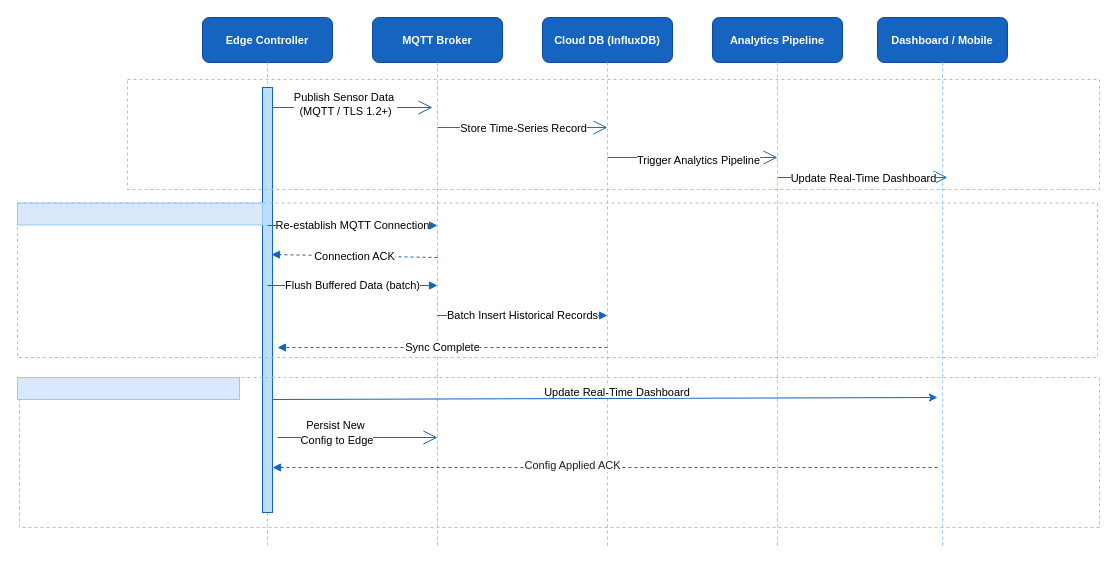
The diagram is 1117 pixels wide and 566 high, and some of its shapes have lost their labels. Each missing label, with the centre of its shape:
[Cloud Reconnect after Outage]: the point at 139,213
[Setpoint / Config Update]: the point at 128,388
loop [every 30-60 s]: the point at 613,134
